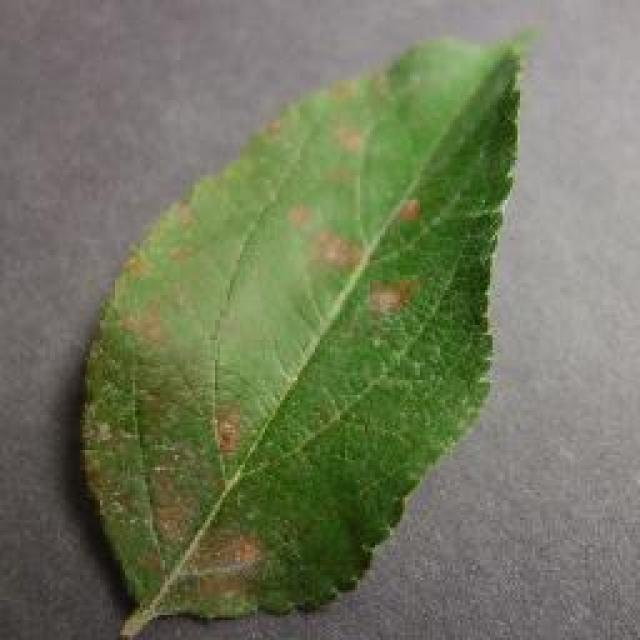apple rust disease: (75, 30, 527, 638)
